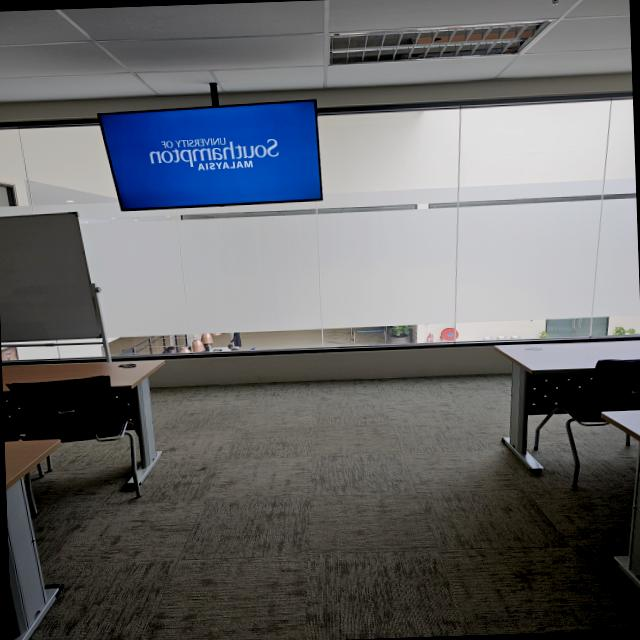footpath: (186, 378, 477, 633)
obstacle: (3, 356, 172, 502), (490, 337, 640, 476)
